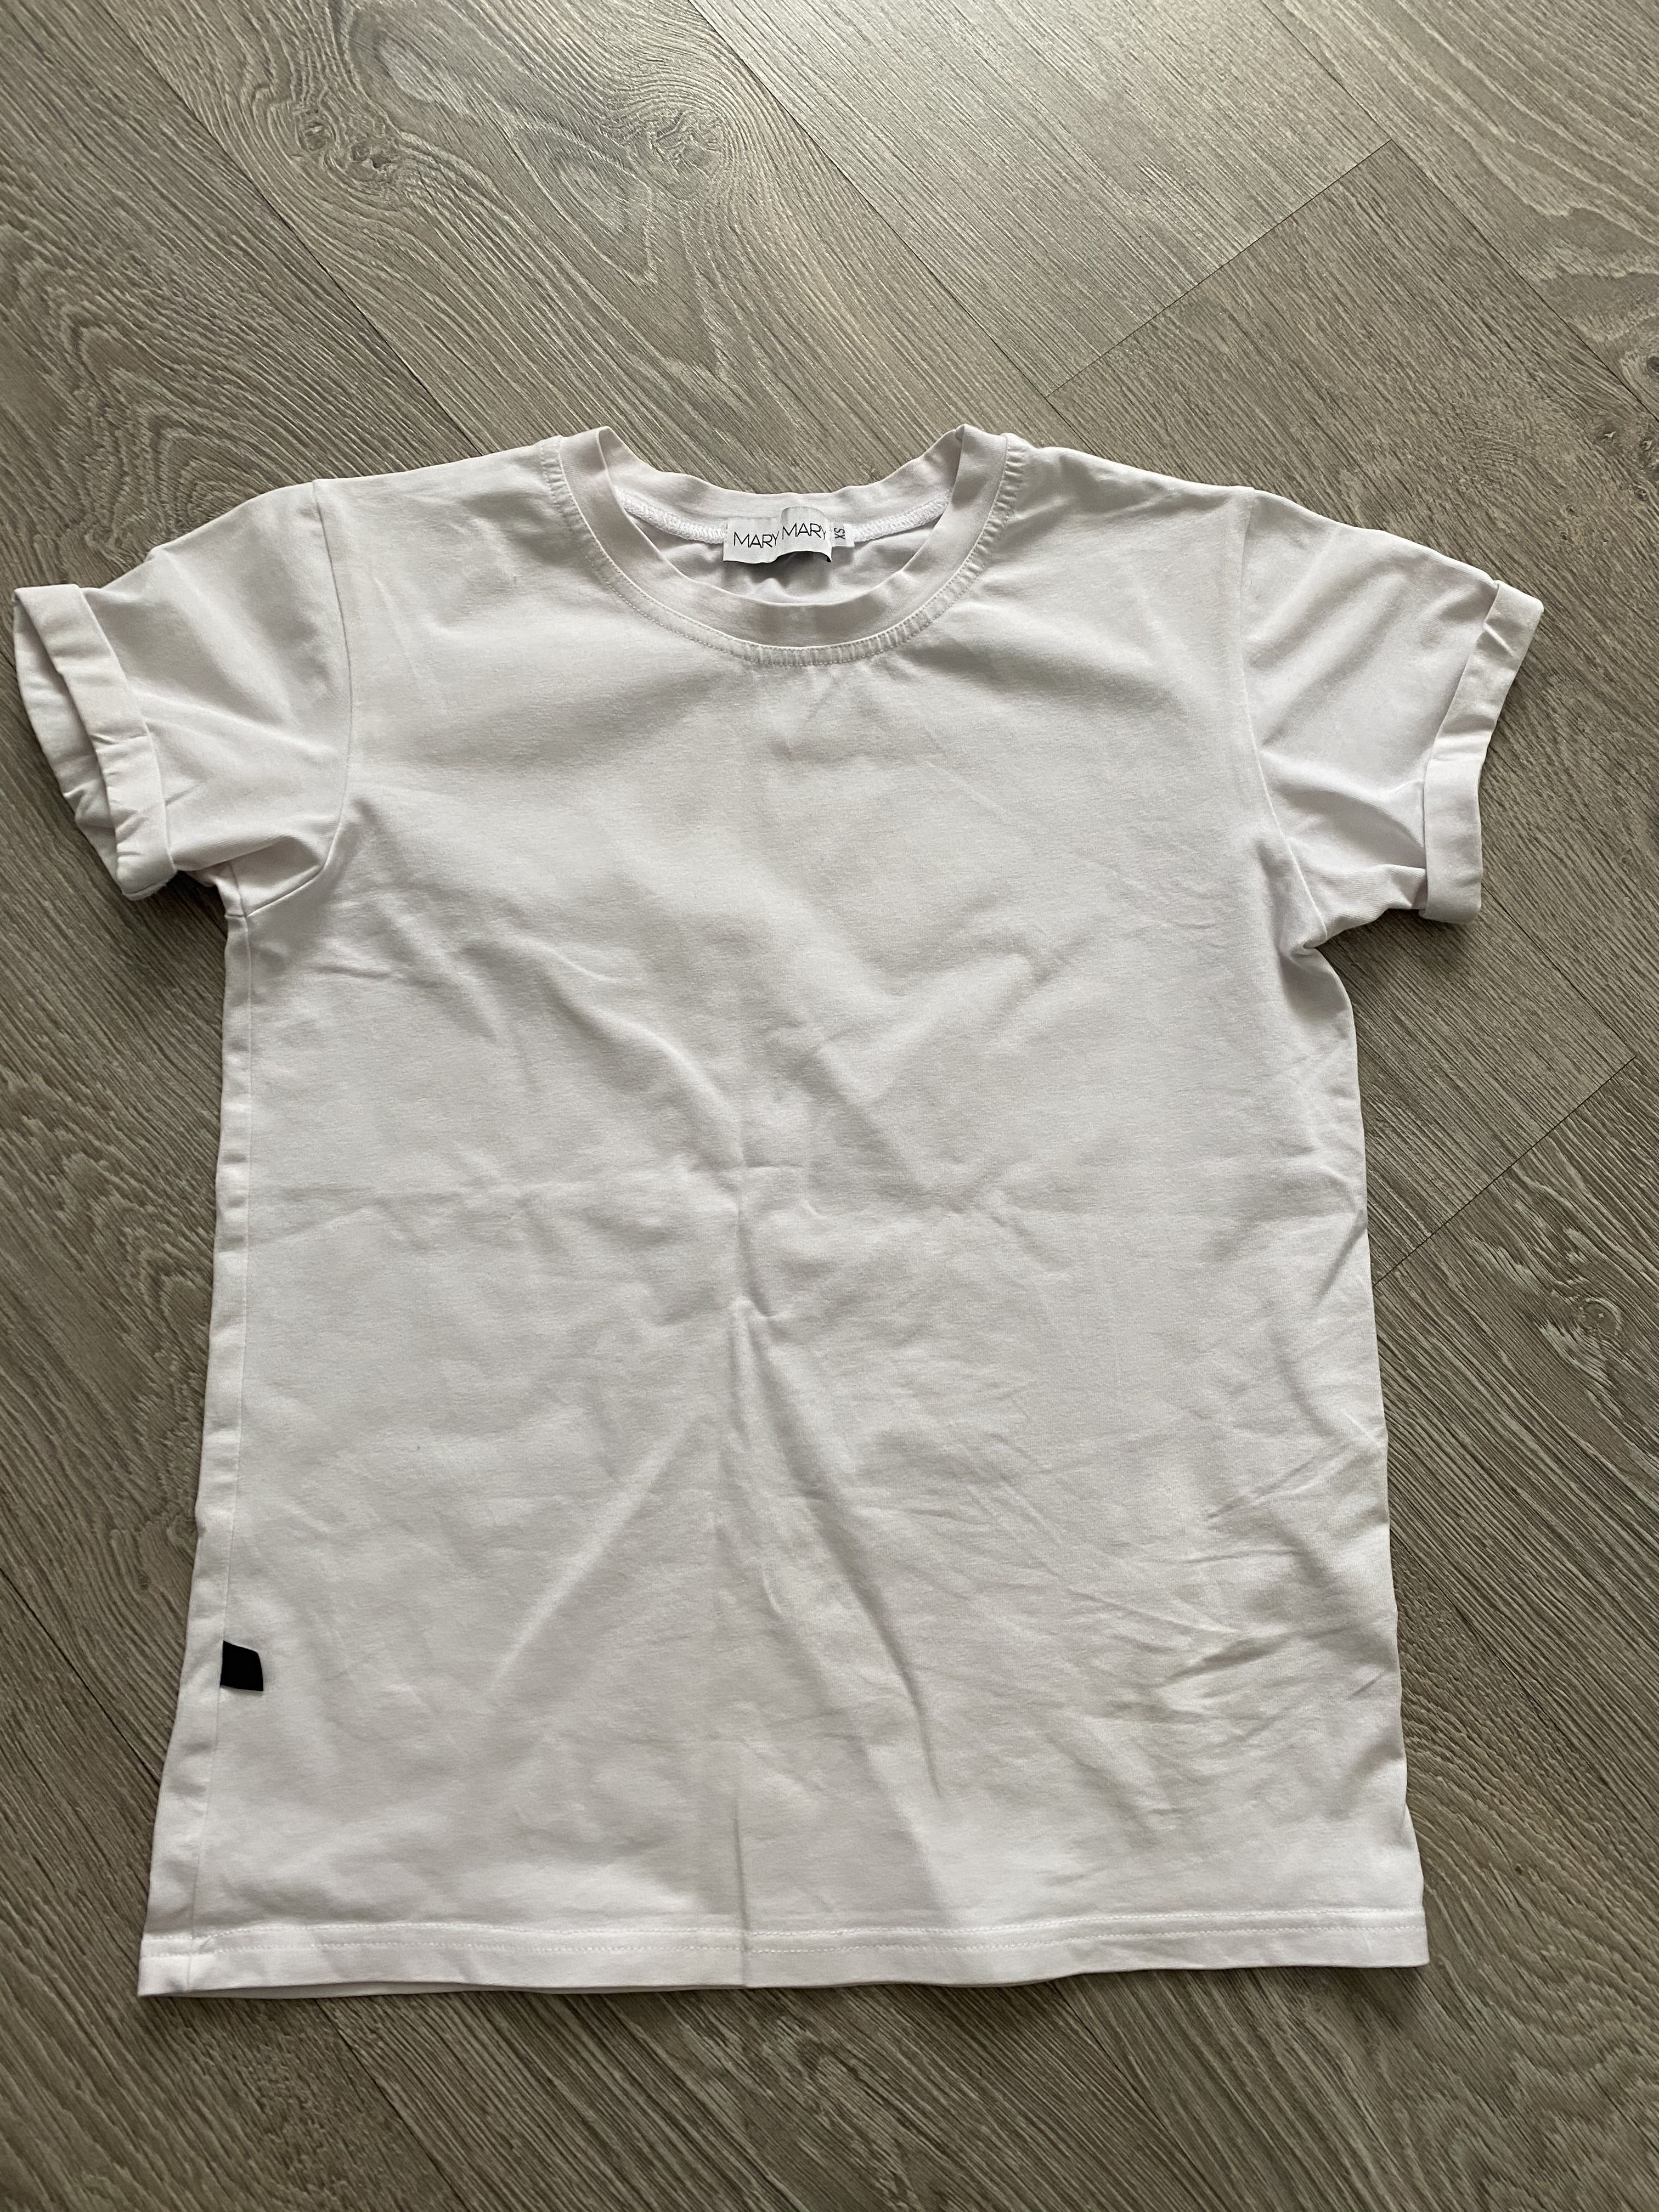clothes: (31, 406, 1549, 2019)
